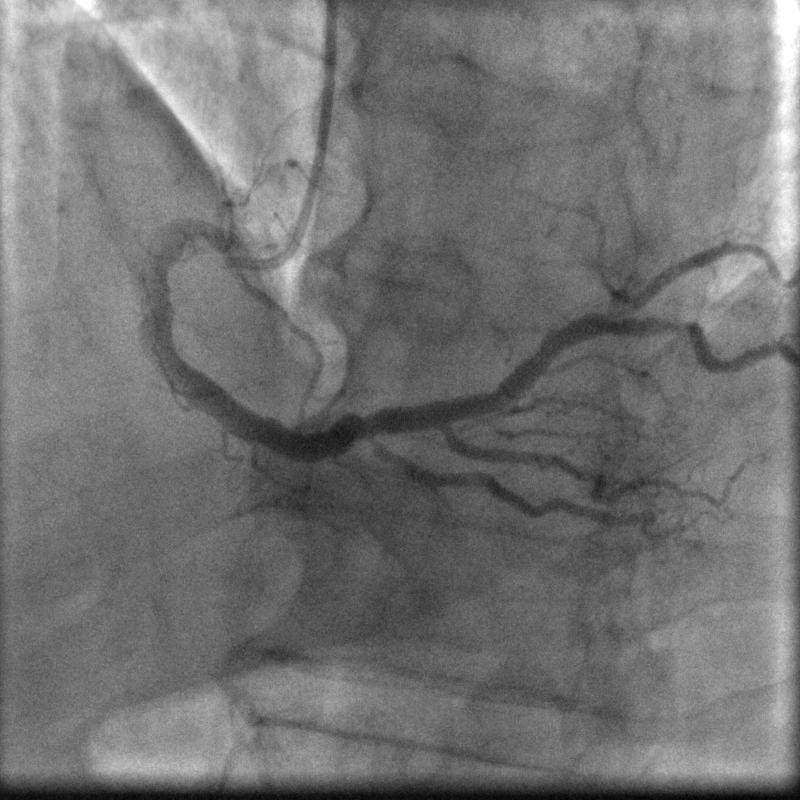Stenosis: (638, 311, 700, 343)
